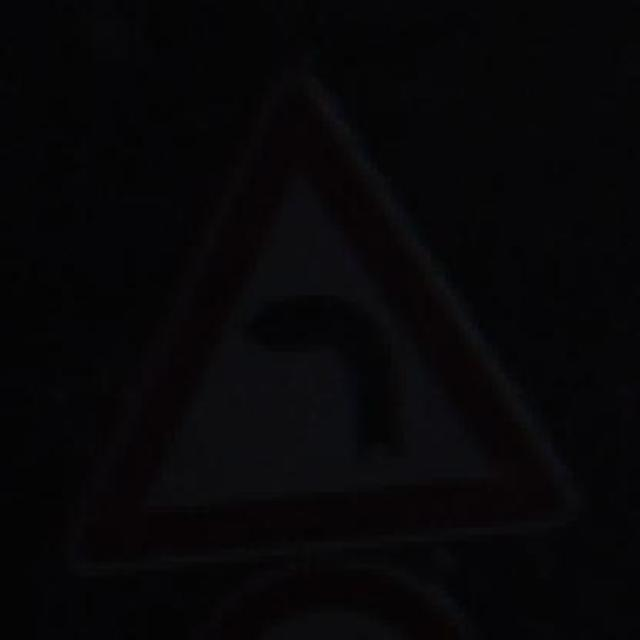Dangerous Left Curve Ahead: (60, 63, 586, 585)
